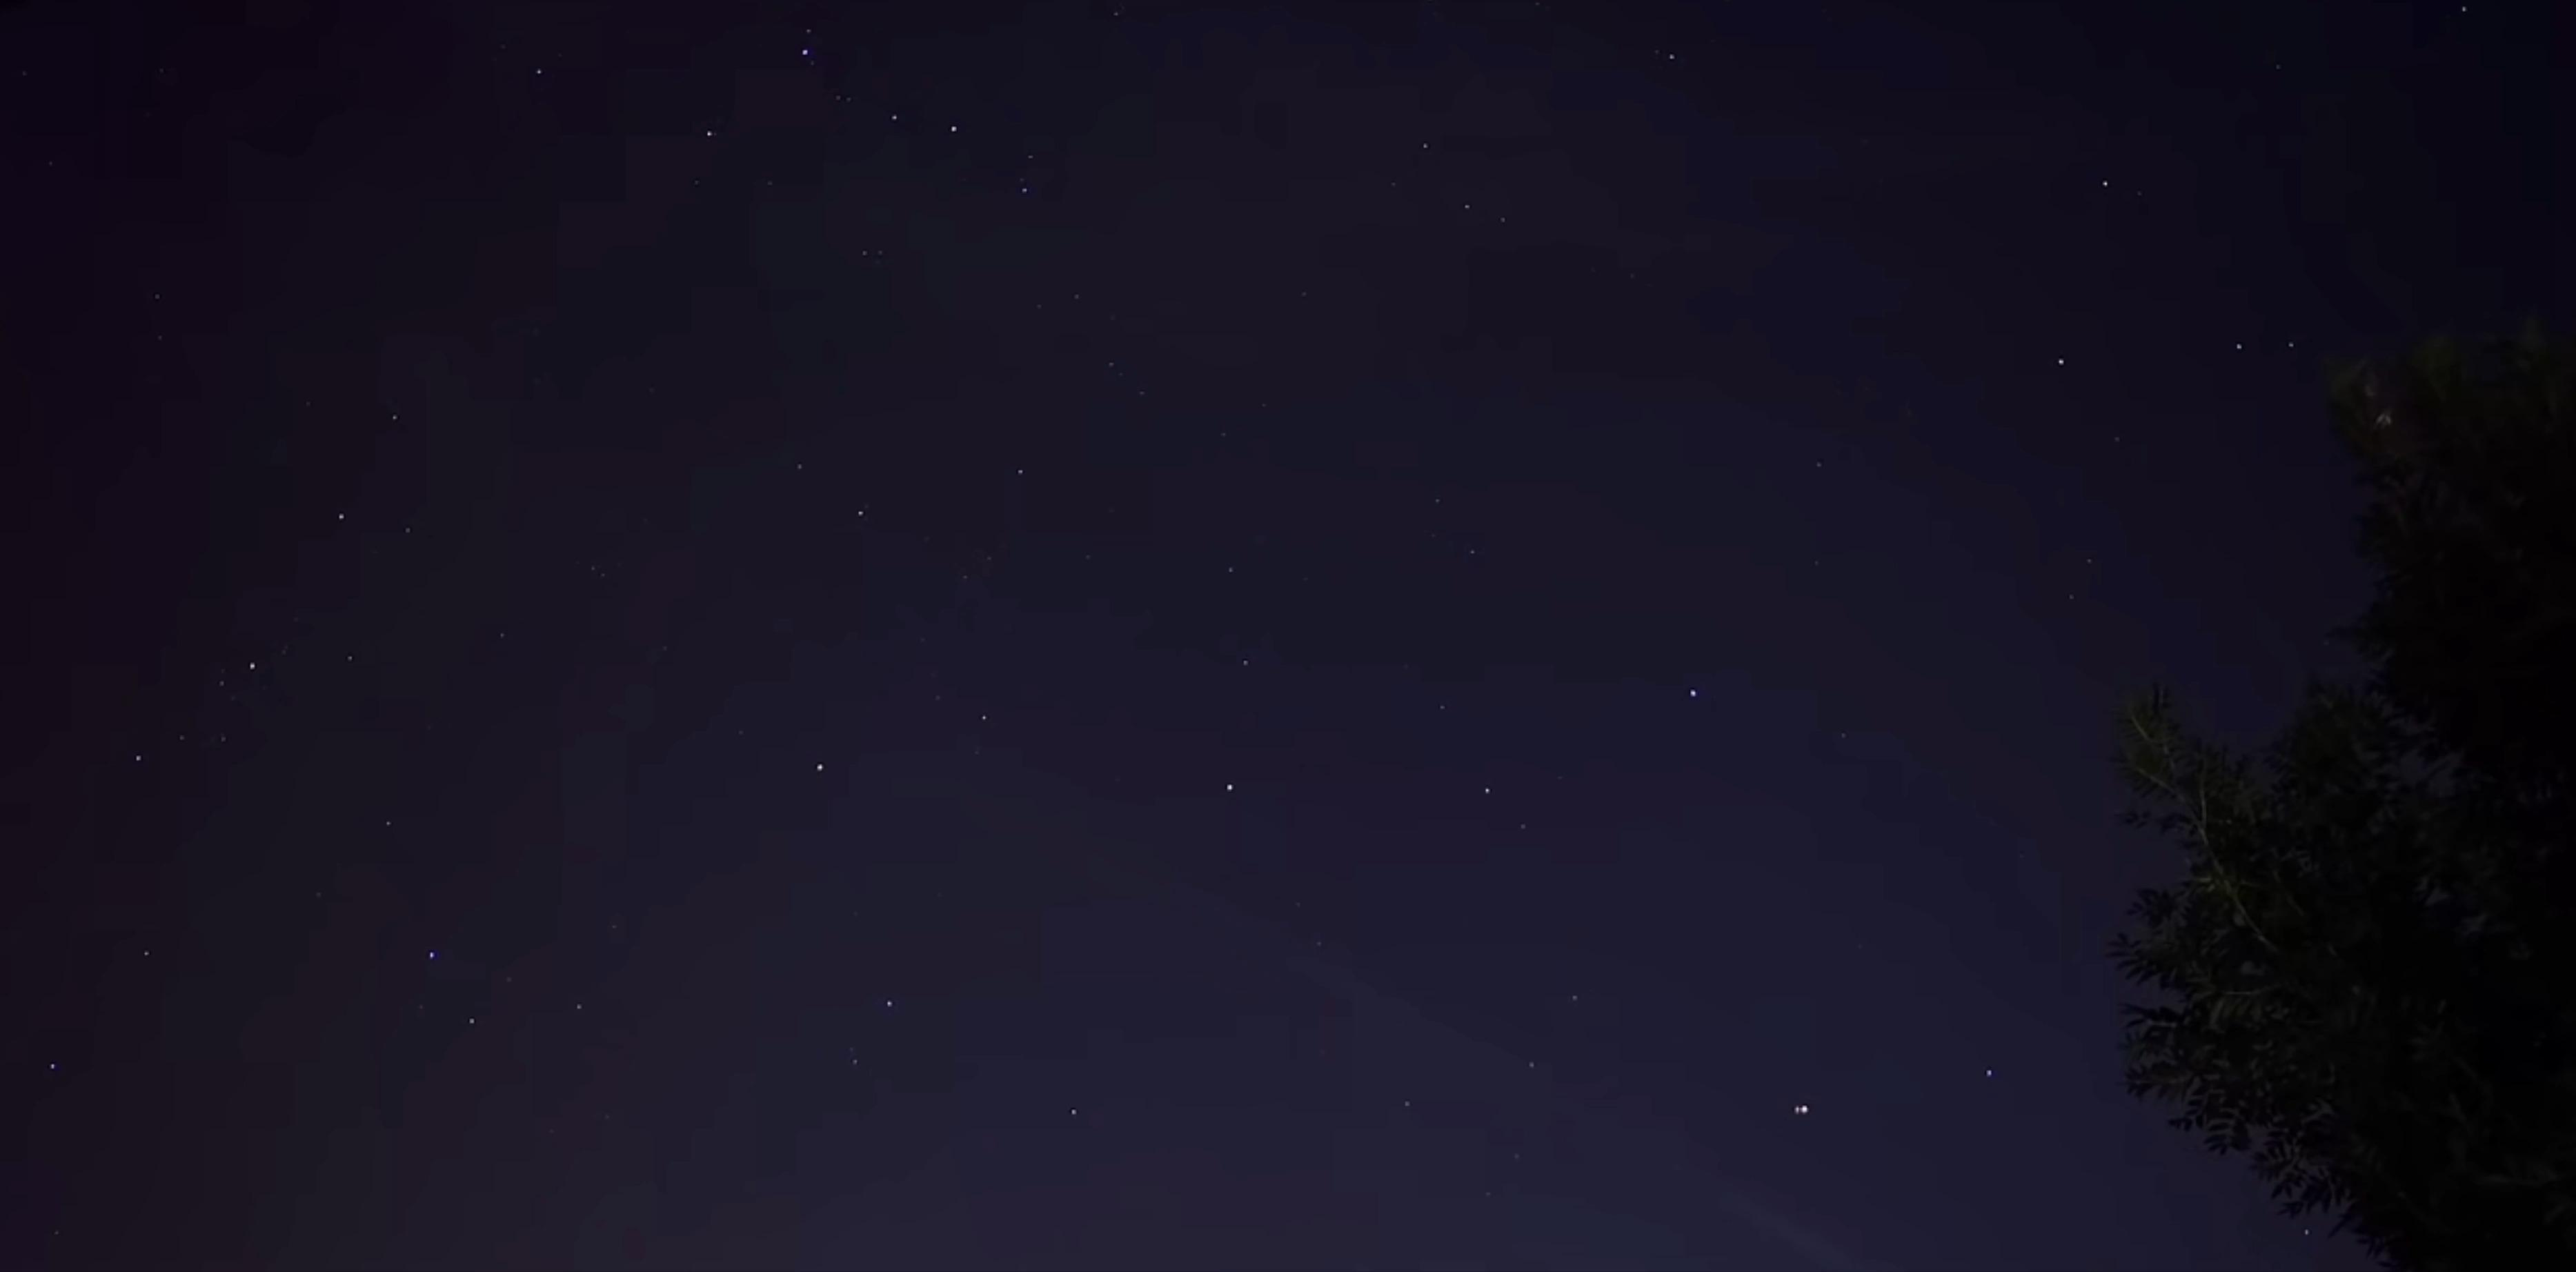Plane: (1774, 1095, 1828, 1121)
